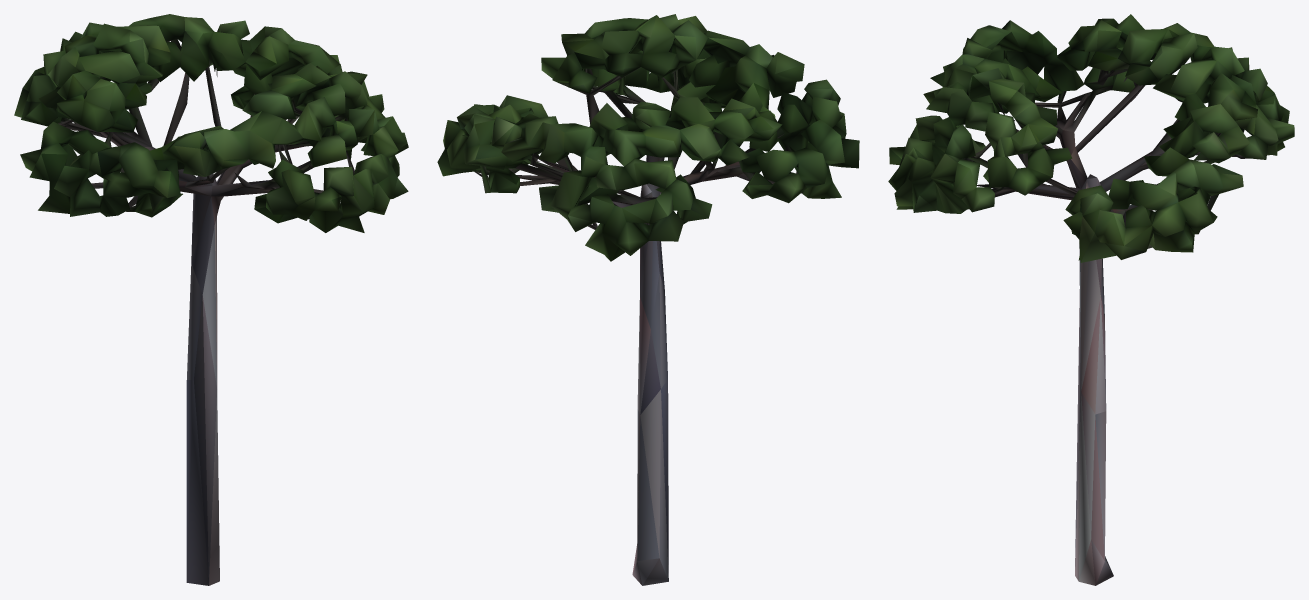
File: pin_laricio.glb
The picture shows the model from 3 angles, left to right: view 1: azimuth 30°, elevation 25°; view 2: azimuth 150°, elevation 25°; view 3: azimuth 270°, elevation 25°; orthographic projection. The views are drawn at different scales.
Visible parts, largest first — view 1: tripo_part_0; view 2: tripo_part_0; view 3: tripo_part_0.
Part boxes in pixels (bbox=[...]): tripo_part_0: bbox=[14, 14, 408, 585]; tripo_part_0: bbox=[437, 14, 859, 585]; tripo_part_0: bbox=[888, 14, 1294, 585].
Bounding box in the file's own units: 0.6991 × 0.981 × 0.6933.
